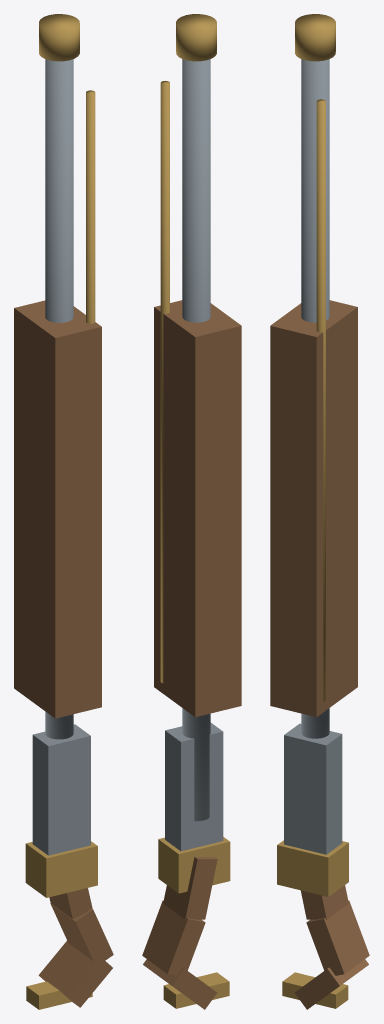
File: musket-clearance-stock.fbx
The picture shows the model from 3 angles, left to right: view 1: azimuth 30°, elevation 25°; view 2: azimuth 210°, elevation 25°; view 3: azimuth 330°, elevation 25°; orthographic projection.
Parts seen in each view (by area): view 1: ForeEnd, Barrel, Lock, Furniture, StockButt, Ramrod, MuzzleBand, StockDrop, ButtCap, StockFront; view 2: ForeEnd, Barrel, Lock, Ramrod, StockDrop, Furniture, StockFront, MuzzleBand, StockButt, ButtCap; view 3: ForeEnd, Lock, Barrel, Ramrod, Furniture, StockDrop, MuzzleBand, StockButt, StockFront, ButtCap.
Part boxes in pixels (x1,y1,x2,y2): ForeEnd: [14, 300, 101, 718]; Barrel: [45, 59, 73, 739]; Lock: [32, 724, 90, 855]; Furniture: [25, 841, 97, 897]; StockButt: [38, 940, 112, 1007]; Ramrod: [86, 90, 95, 323]; MuzzleBand: [39, 14, 79, 61]; StockDrop: [50, 903, 113, 961]; ButtCap: [26, 981, 92, 1009]; StockFront: [49, 888, 92, 918]; ForeEnd: [154, 300, 241, 717]; Barrel: [182, 59, 210, 821]; Lock: [165, 722, 223, 851]; Ramrod: [160, 80, 169, 683]; StockDrop: [142, 900, 205, 975]; Furniture: [158, 837, 230, 893]; StockFront: [163, 856, 217, 919]; MuzzleBand: [176, 14, 216, 61]; StockButt: [143, 959, 217, 1009]; ButtCap: [163, 972, 229, 1008]; ForeEnd: [270, 300, 357, 717]; Lock: [284, 723, 342, 854]; Barrel: [301, 59, 329, 738]; Ramrod: [316, 99, 325, 701]; Furniture: [277, 840, 348, 896]; StockDrop: [306, 900, 369, 975]; MuzzleBand: [295, 14, 335, 61]; StockButt: [294, 959, 368, 1009]; StockFront: [300, 885, 348, 919]; ButtCap: [282, 972, 348, 1008].
Bounding box in the file's own units: 0.0999 × 1.36 × 0.104.
